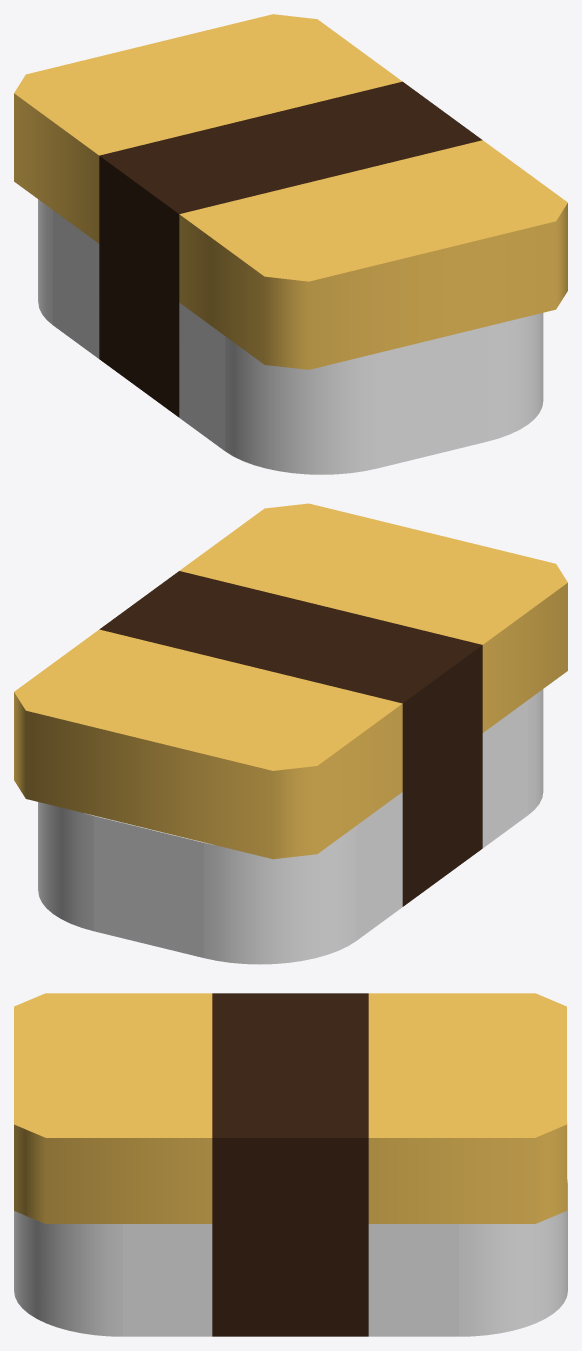
File: Sushi Egg.glb
3 renders of one model, top to bottom at view 1: azimuth 30°, elevation 25°; view 2: azimuth 150°, elevation 25°; view 3: azimuth 270°, elevation 25°, orthographic. The views are drawn at different scales.
Visible parts, largest first — view 1: Sushi Egg; view 2: Sushi Egg; view 3: Sushi Egg.
Boxes of the visible parts, box(x1,y1,x2,y2) form: Sushi Egg: box(14, 14, 567, 474); Sushi Egg: box(14, 503, 567, 964); Sushi Egg: box(14, 993, 567, 1336).
Bounding box in the file's own units: 0.1079 × 0.0692 × 0.1746.
